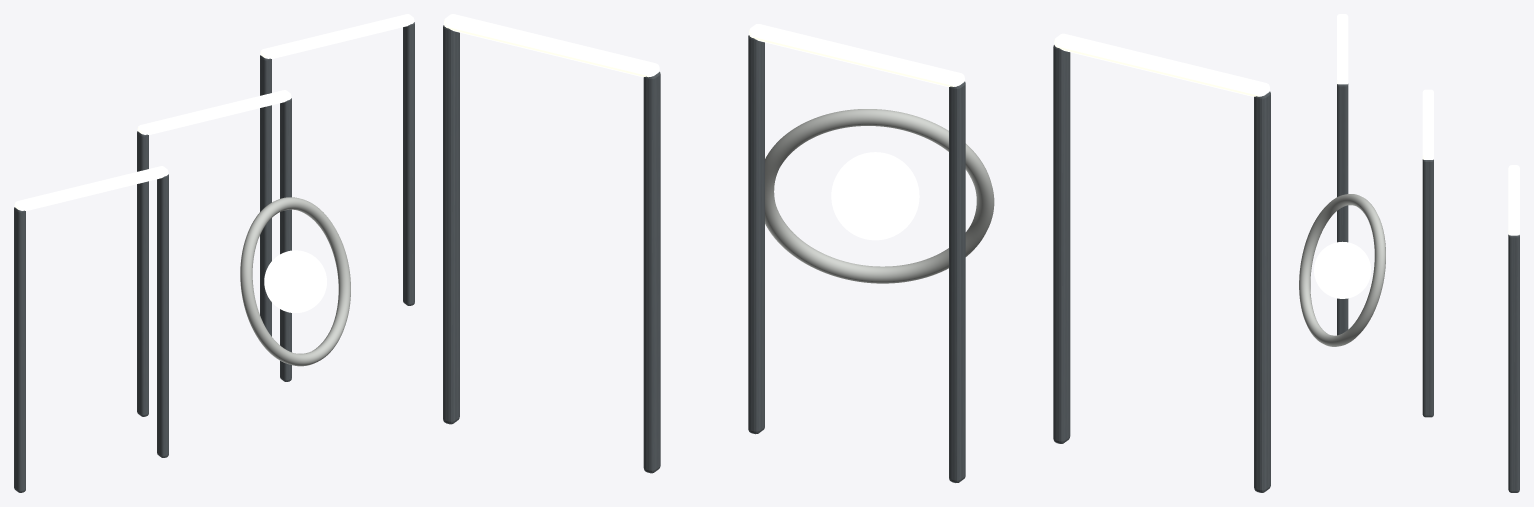
Rendered from manifesto.glb.
3 views of the same model, side by side, from view 1: azimuth 30°, elevation 25°; view 2: azimuth 150°, elevation 25°; view 3: azimuth 270°, elevation 25° (orthographic). The views are drawn at different scales.
Visible parts, largest first — view 1: Static_manifesto, Spin_Idea, Float_Idea; view 2: Static_manifesto, Spin_Idea, Float_Idea; view 3: Static_manifesto, Spin_Idea, Float_Idea.
Boxes of the visible parts, x1=… form: Static_manifesto: x1=14, y1=14, x2=414, y2=492; Spin_Idea: x1=240, y1=197, x2=350, y2=366; Float_Idea: x1=264, y1=250, x2=326, y2=312; Static_manifesto: x1=443, y1=14, x2=1270, y2=492; Spin_Idea: x1=765, y1=109, x2=994, y2=283; Float_Idea: x1=831, y1=152, x2=919, y2=240; Static_manifesto: x1=1337, y1=14, x2=1519, y2=492; Spin_Idea: x1=1299, y1=194, x2=1385, y2=346; Float_Idea: x1=1314, y1=241, x2=1371, y2=298.
Bounding box in the file's own units: 7.22 × 4.06 × 3.09.
Materials: 4 (1 with a texture image).
